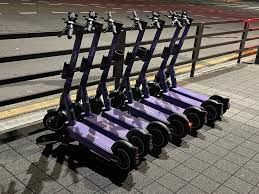kick_handler: (58, 11, 85, 38), (128, 9, 148, 30), (106, 11, 122, 33), (167, 10, 184, 27), (150, 12, 165, 28)
kick_wheel: (111, 142, 135, 170), (149, 122, 170, 147), (131, 130, 149, 157), (170, 113, 188, 138), (43, 111, 65, 130), (187, 107, 204, 129), (201, 101, 218, 121)
